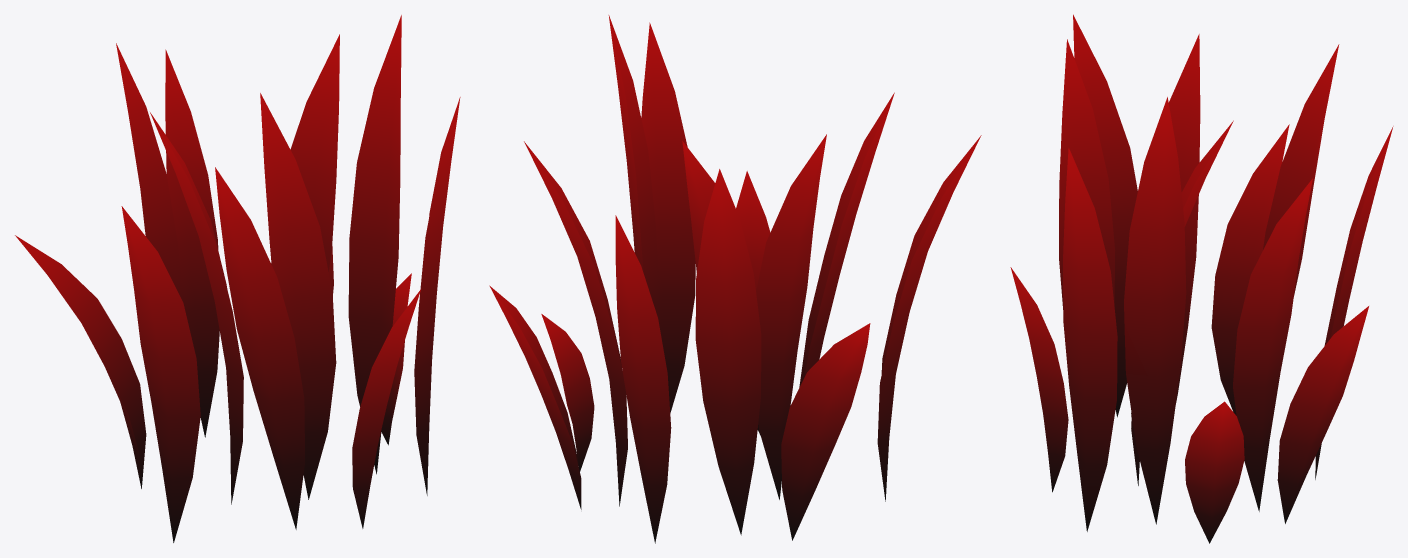
File: Grama.fbx
The picture shows the model from 3 angles, left to right: view 1: azimuth 30°, elevation 25°; view 2: azimuth 150°, elevation 25°; view 3: azimuth 270°, elevation 25°; orthographic projection.
Visible parts, largest first — view 1: Plane; view 2: Plane; view 3: Plane.
Part boxes in pixels (x1,y1,x2,y2): Plane: [15, 15, 460, 542]; Plane: [489, 15, 981, 543]; Plane: [1010, 14, 1393, 543].
Size of the model in its own units: 0.5723 by 0.6695 by 0.5241.
